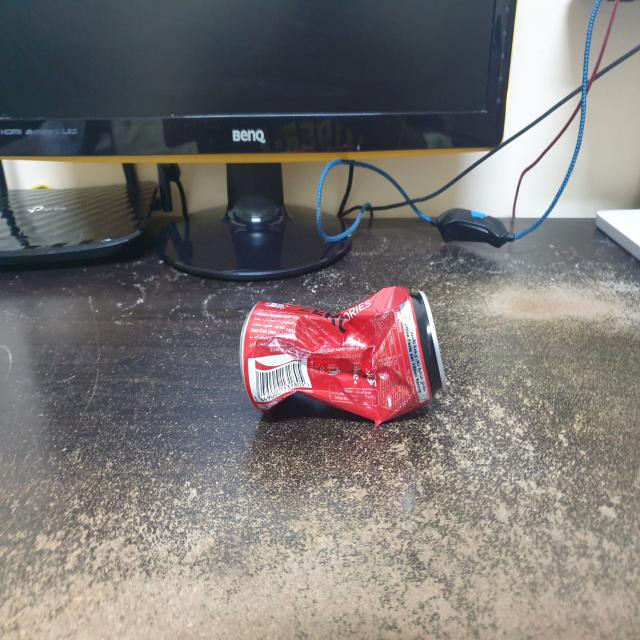non-organic waste: (233, 281, 455, 439)
